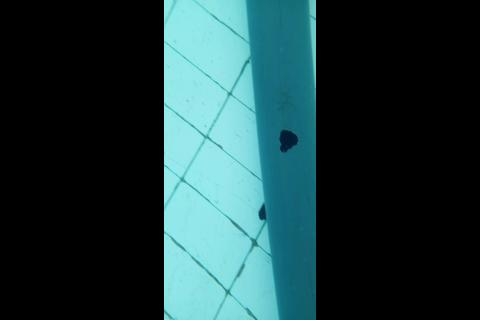kebocoran: (278, 128, 298, 155)
